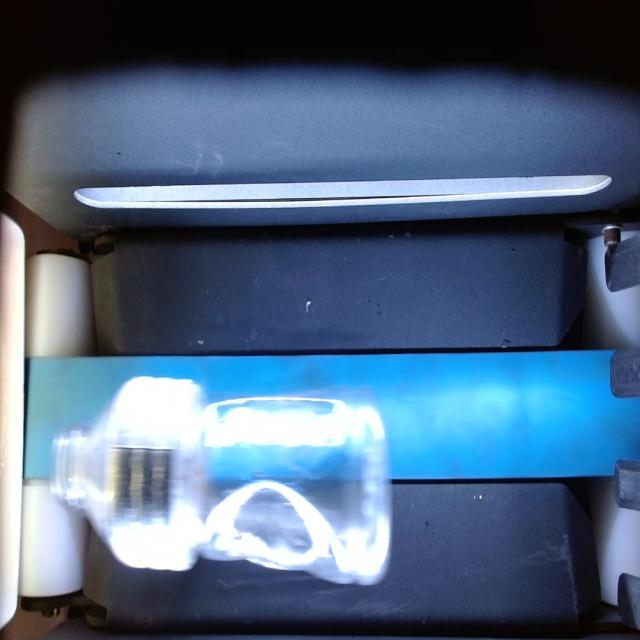bottom: (209, 396, 397, 591)
label: (108, 372, 202, 573)
neck: (44, 406, 122, 528)
